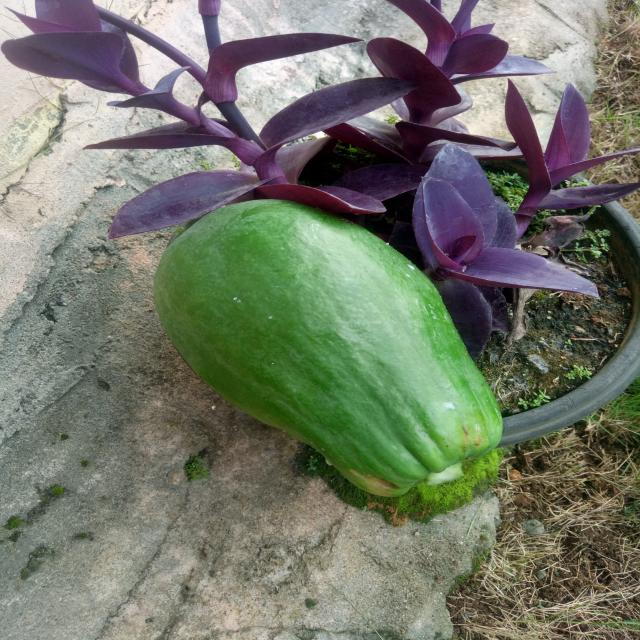Pepaya unrippen: (150, 192, 503, 502)
